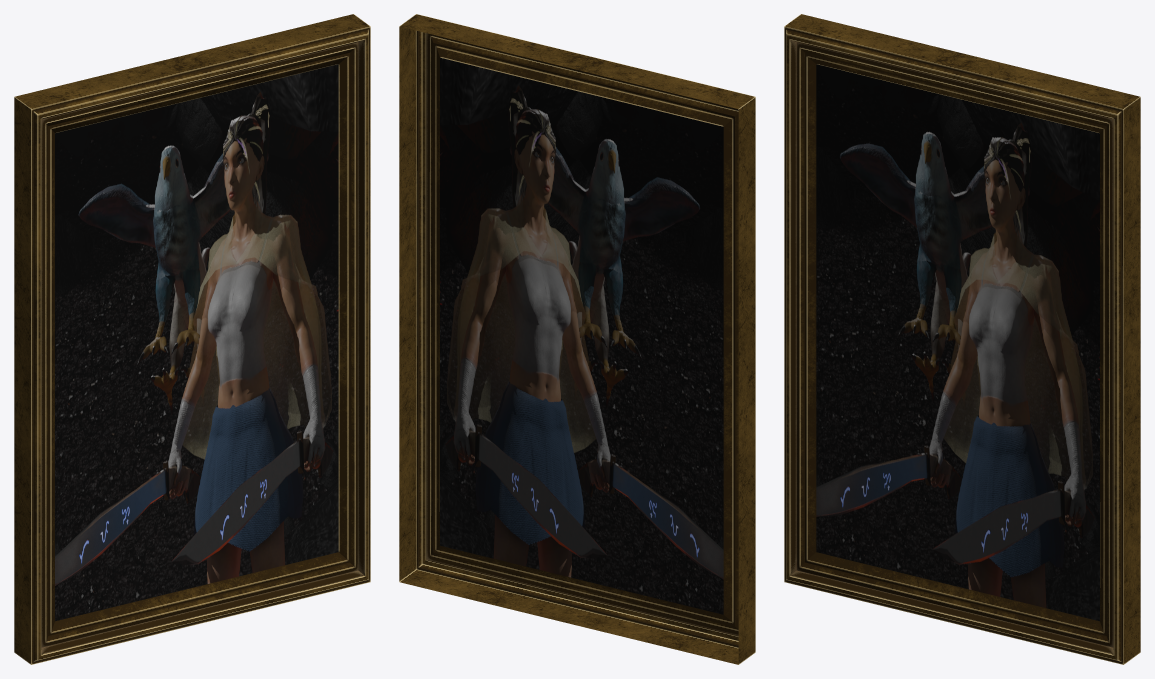
Rendered from Painting 12.fbx.
3 renders of one model, left to right at view 1: azimuth 30°, elevation 25°; view 2: azimuth 150°, elevation 25°; view 3: azimuth 330°, elevation 25°, orthographic.
Visible parts, largest first — view 1: painting_Var2; view 2: painting_Var2; view 3: painting_Var2.
Part boxes in pixels (box(x1,y1,x2,y2)): painting_Var2: box(14, 14, 370, 664); painting_Var2: box(399, 14, 755, 664); painting_Var2: box(784, 14, 1140, 664).
Bounding box in the file's own units: 59.07 × 92.39 × 5.86.
Materials: 2 (2 with a texture image).
